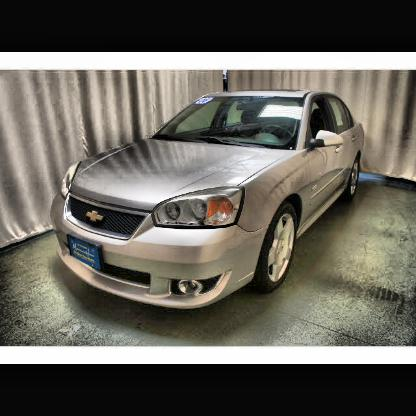Chevrolet Malibu Sedan 2007: (52, 91, 363, 313)
